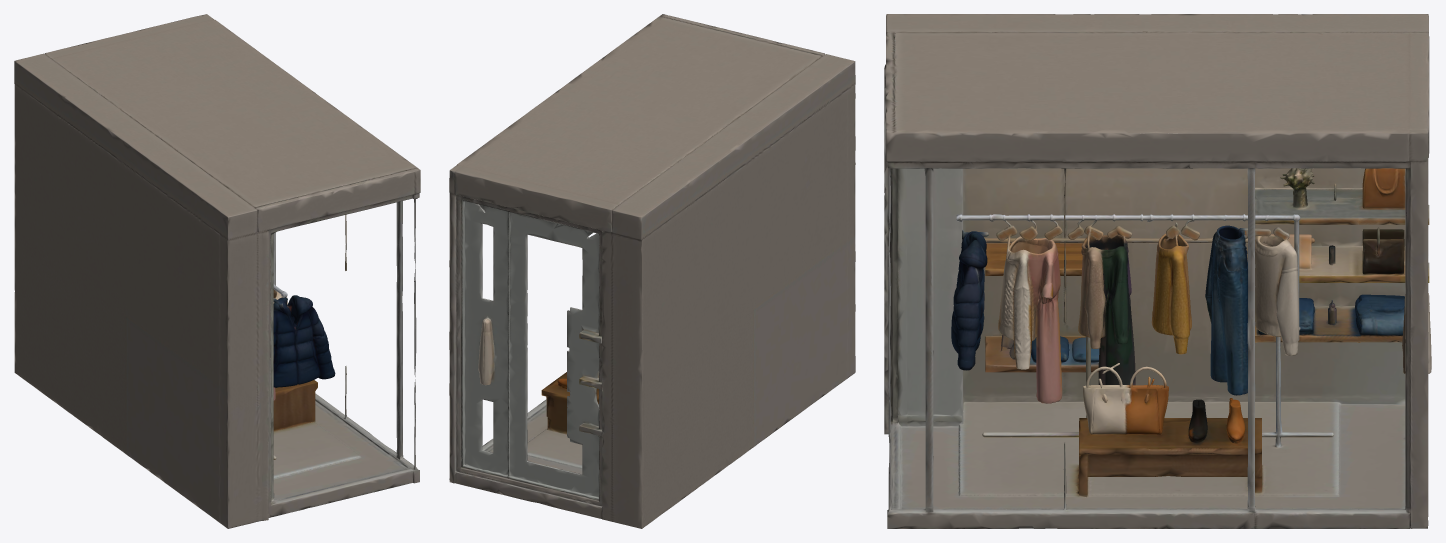
The model's file is front_cloth_v.glb.
3 views of the same model, side by side, from view 1: azimuth 30°, elevation 25°; view 2: azimuth 150°, elevation 25°; view 3: azimuth 270°, elevation 25° (orthographic). The views are drawn at different scales.
Parts seen in each view (by area): view 1: tripo_node_1101fbf4-2962-4fb8-ab8f-bee9e8e9e34c; view 2: tripo_node_1101fbf4-2962-4fb8-ab8f-bee9e8e9e34c; view 3: tripo_node_1101fbf4-2962-4fb8-ab8f-bee9e8e9e34c.
Boxes of the visible parts, x1,y1,x2,y2 form: tripo_node_1101fbf4-2962-4fb8-ab8f-bee9e8e9e34c: (14, 14, 420, 528); tripo_node_1101fbf4-2962-4fb8-ab8f-bee9e8e9e34c: (449, 14, 855, 528); tripo_node_1101fbf4-2962-4fb8-ab8f-bee9e8e9e34c: (884, 14, 1431, 528).
Size of the model in its own units: 1.36 by 2.1 by 2.63.
Materials: 1 (1 with a texture image).
